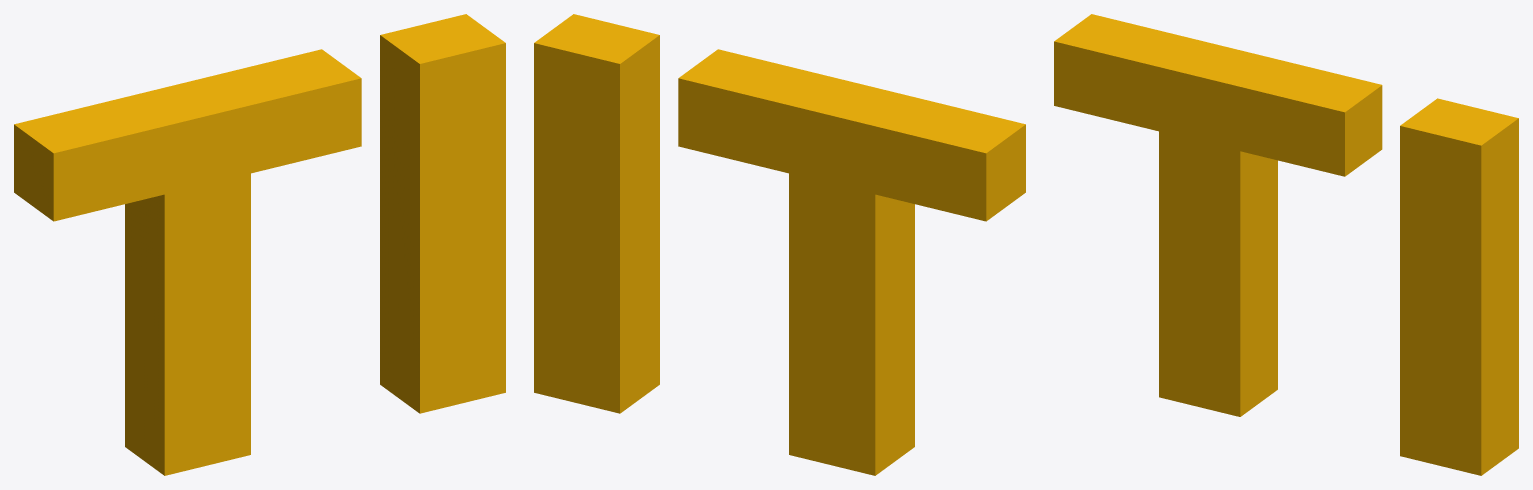
File: suku_besar_ti.glb
The picture shows the model from 3 angles, left to right: view 1: azimuth 30°, elevation 25°; view 2: azimuth 150°, elevation 25°; view 3: azimuth 330°, elevation 25°; orthographic projection. The views are drawn at different scales.
Visible parts, largest first — view 1: geometry_0; view 2: geometry_0; view 3: geometry_0.
Part boxes in pixels (x1,y1,x2,y2): geometry_0: (14,14,505,475); geometry_0: (534,14,1025,475); geometry_0: (1054,14,1518,475).
Size of the model in its own units: 9.87 by 7.29 by 1.5.
